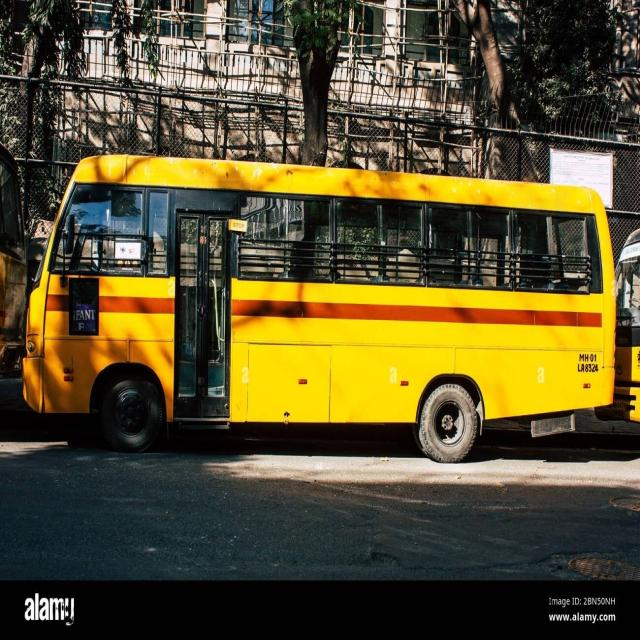bus: (22, 155, 615, 462)
